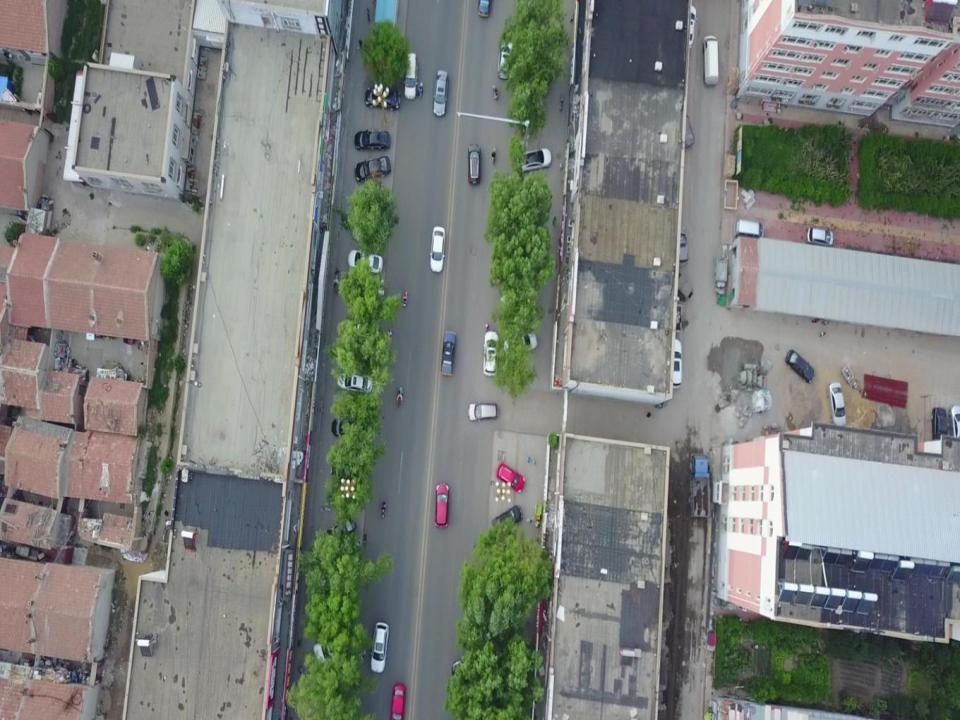car: (312, 630, 355, 666), (322, 514, 356, 549), (451, 660, 471, 715), (784, 348, 816, 382), (369, 621, 389, 674), (664, 338, 684, 390), (354, 155, 391, 183), (495, 460, 525, 493), (348, 247, 384, 274), (515, 147, 552, 173), (826, 381, 846, 428), (502, 330, 538, 356), (492, 504, 522, 534), (672, 109, 695, 148), (354, 128, 391, 152), (364, 86, 401, 110), (330, 417, 370, 439), (336, 370, 373, 393), (931, 406, 948, 454), (483, 330, 500, 376), (434, 482, 450, 529), (430, 226, 446, 273), (440, 330, 456, 376), (433, 70, 449, 116), (467, 400, 498, 423), (497, 40, 515, 79), (681, 4, 697, 47), (466, 143, 482, 185), (389, 683, 407, 720), (345, 321, 379, 340), (948, 403, 960, 452), (806, 226, 834, 246), (674, 232, 688, 266), (477, 0, 492, 17)
truck: (689, 452, 711, 518)
van: (703, 34, 719, 87), (404, 52, 418, 100), (733, 219, 764, 239)
